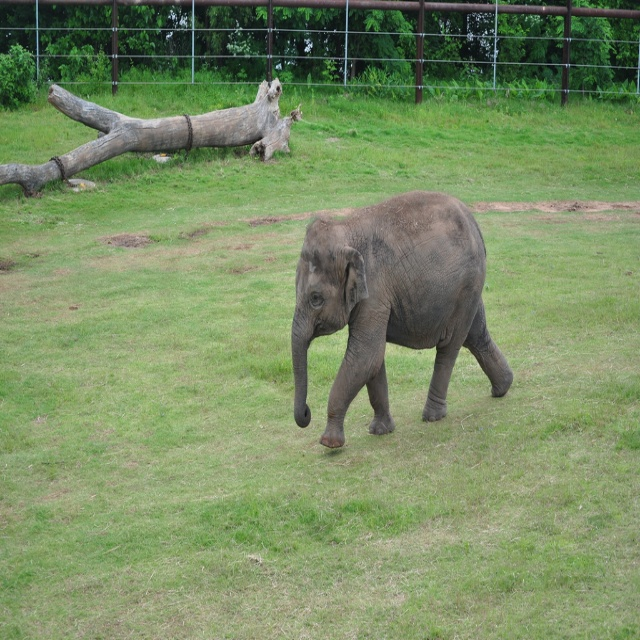Elephant: (287, 187, 514, 448)
